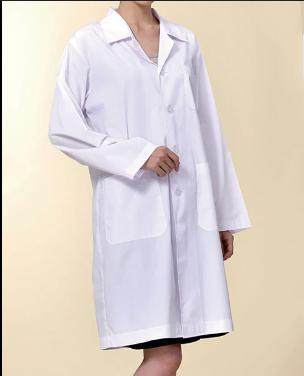lab_coat: (47, 5, 252, 352)
